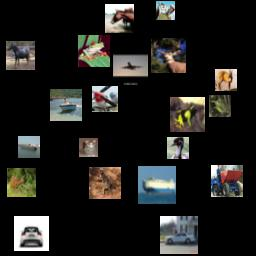airplane: (113, 50, 148, 85), (92, 86, 118, 112)
automobile: (160, 216, 198, 254), (14, 216, 49, 251)
bird: (167, 137, 189, 159)
cat: (79, 138, 98, 157)
deer: (151, 38, 186, 73), (7, 168, 36, 197), (215, 69, 237, 91)
frog: (170, 97, 205, 132), (89, 167, 121, 199), (78, 35, 110, 67), (209, 95, 231, 117)
ship: (138, 166, 176, 204), (50, 89, 82, 121), (18, 136, 40, 158)
truck: (211, 165, 243, 197)
